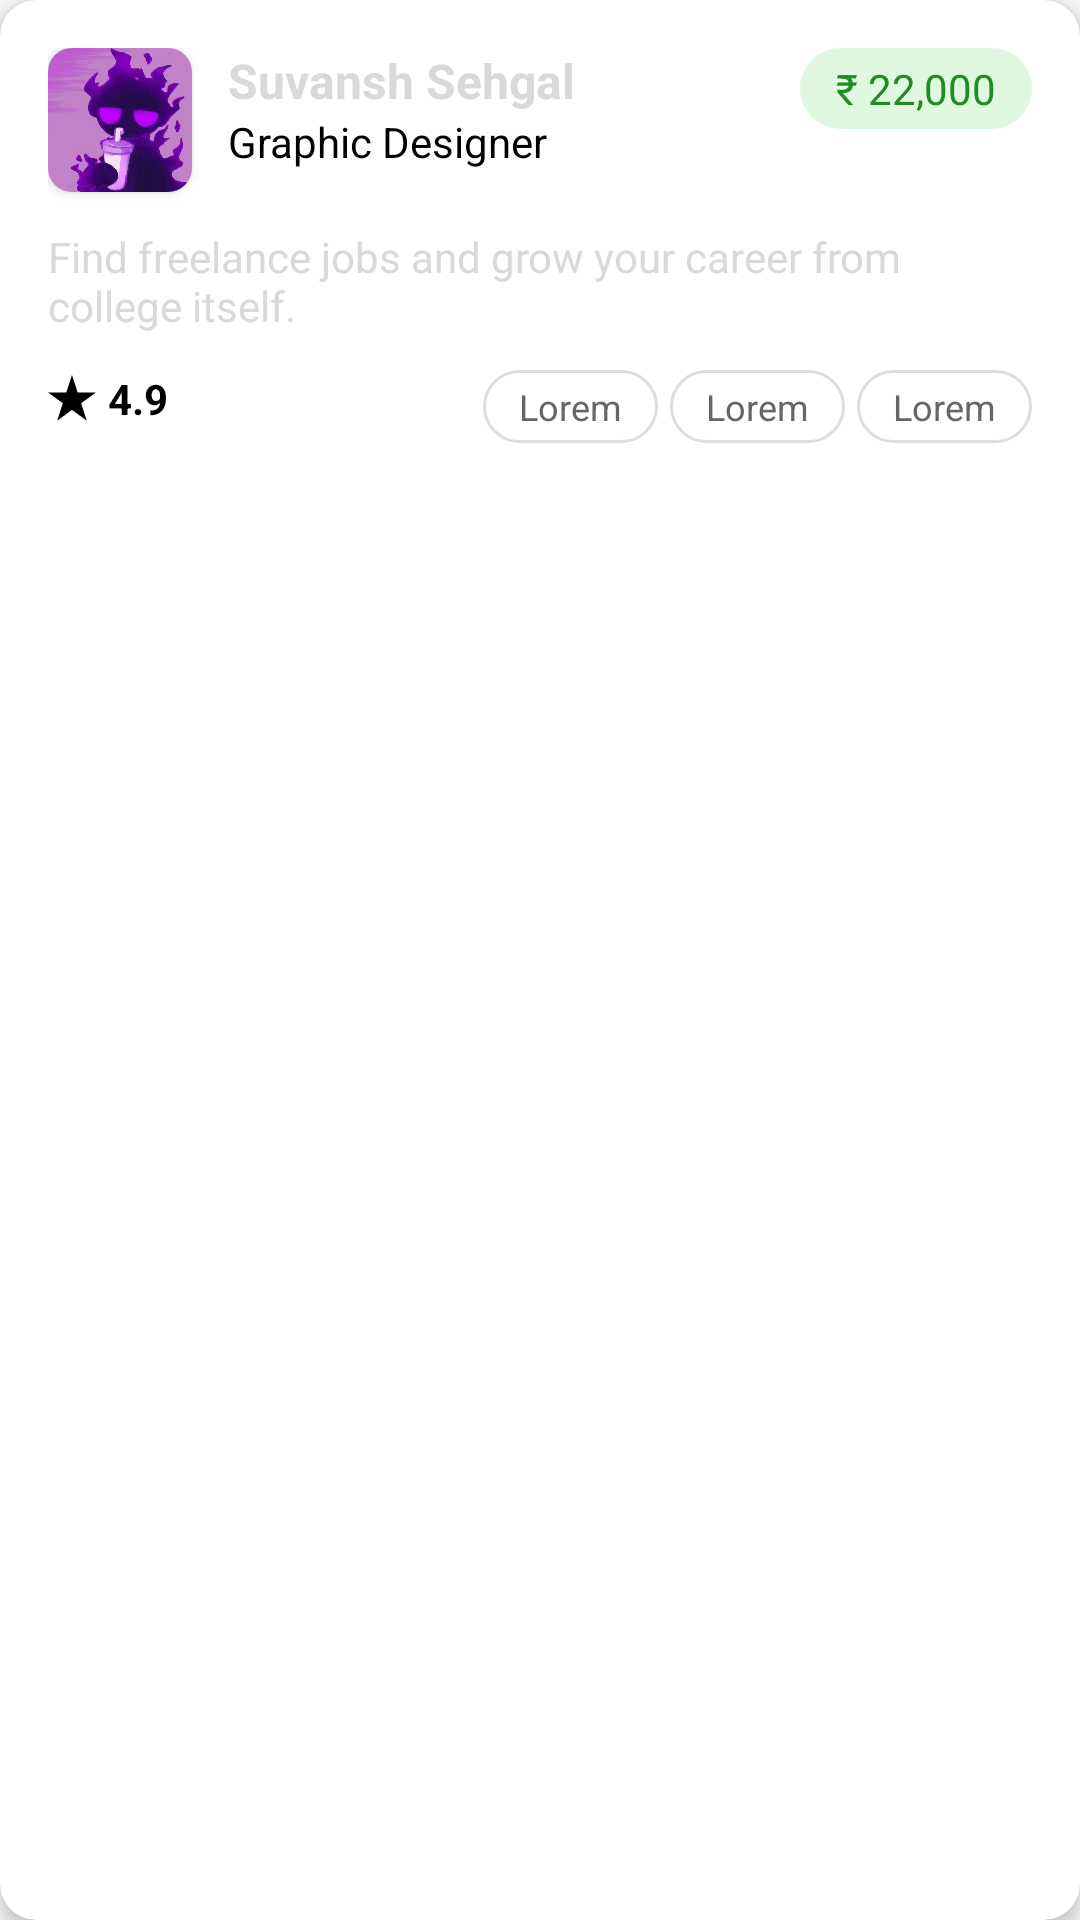

Icon bounding boxes for this 1080px×1920px phone screenshot, format (left=x1, top=y1, right=x2, bottom=y2):
profilepic: (left=48, top=48, right=192, bottom=192)
star caro: (left=48, top=375, right=96, bottom=421)
